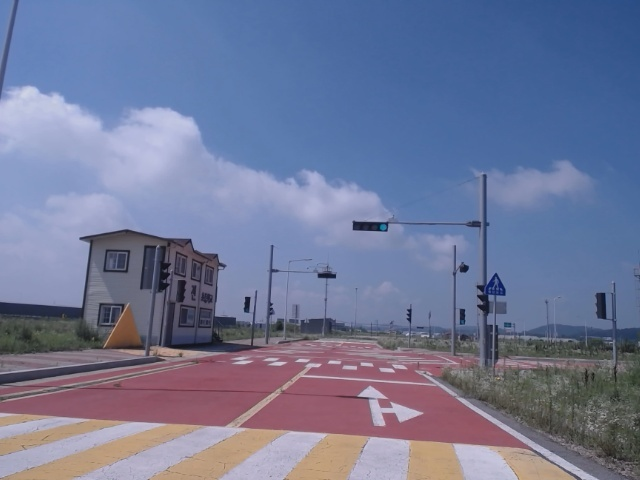straight_green_4: (353, 223, 388, 231)
